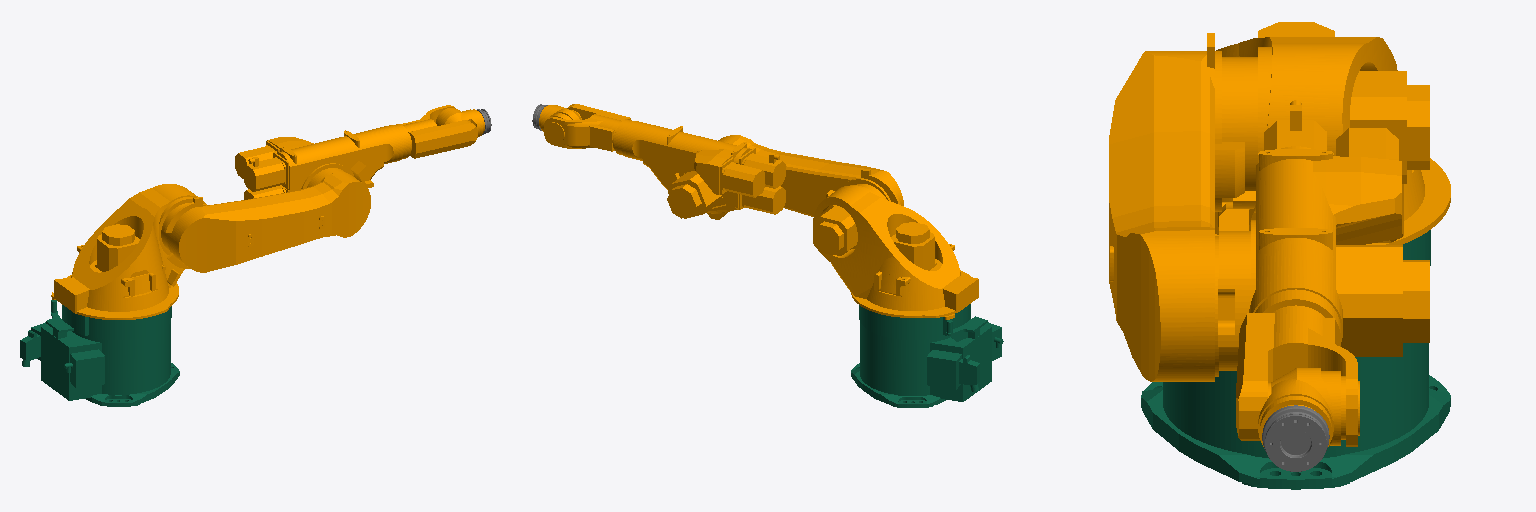
robot.urdf — kuka_kr60:
<?xml version="1.0" ?>
<!-- =================================================================================== -->
<!-- |    This document was autogenerated by xacro from kr500_3.xacro                  | -->
<!-- |    EDITING THIS FILE BY HAND IS NOT RECOMMENDED                                 | -->
<!-- =================================================================================== -->
<robot name="kuka_kr60">
  <!-- links: main serial chain -->
  <link name="base_link">
    <visual>
      <origin rpy="0 0 0" xyz="0 0 0"/>
      <geometry>
        <mesh filename="../meshes/kr60/visual/base_link.stl"/>
      </geometry>
      <material name="modern_green">
        <color rgba="0.109803921569 0.447058823529  0.341176470588   1"/>
      </material>
    </visual>
    <collision>
      <origin rpy="0 0 0" xyz="0 0 0"/>
      <geometry>
        <mesh filename="../meshes/kr60/collision/base_link.stl"/>
      </geometry>
    </collision>
  </link>
  <link name="link_1">
    <visual>
      <origin rpy="0 0 0" xyz="0 0 0"/>
      <geometry>
        <mesh filename="../meshes/kr60/visual/link_1.stl"/>
      </geometry>
      <material name="orange">
        <color rgba="1 0.64706 0 1"/>
      </material>
    </visual>
    <collision>
      <origin rpy="0 0 0" xyz="0 0 0"/>
      <geometry>
        <mesh filename="../meshes/kr60/collision/link_1.stl"/>
      </geometry>
    </collision>
  </link>
  <link name="link_2">
    <visual>
      <origin rpy="0 1.5707963267948966192 0" xyz="-0.815 0 0.35"/>
      <geometry>
        <mesh filename="../meshes/kr60/visual/link_2.stl"/>
      </geometry>
      <material name="orange">
        <color rgba="1 0.64706 0 1"/>
      </material>
    </visual>
    <collision>
      <origin rpy="0 1.5707963267948966192 0" xyz="-0.815 0 0.35"/>
      <geometry>
        <mesh filename="../meshes/kr60/collision/link_2.stl"/>
      </geometry>
    </collision>
  </link>
  <link name="link_3">
    <visual>
      <origin rpy="0 0 0" xyz="-0.35 0 -1.6565001"/>
      <geometry>
        <mesh filename="../meshes/kr60/visual/link_3.stl"/>
      </geometry>
      <material name="orange">
        <color rgba="1 0.64706 0 1"/>
      </material>
    </visual>
    <collision>
      <origin rpy="0 0 0" xyz="-0.35 0 -1.6565001"/>
      <geometry>
        <mesh filename="../meshes/kr60/collision/link_3.stl"/>
      </geometry>
    </collision>
  </link>
  <link name="link_4">
    <visual>
      <origin rpy="0 0 0" xyz="-0.35 0 -1.810"/>
      <geometry>
        <mesh filename="../meshes/kr60/visual/link_4.stl"/>
      </geometry>
      <material name="orange">
        <color rgba="1 0.64706 0 1"/>
      </material>
    </visual>
    <collision>
      <origin rpy="0 0 0" xyz="-0.35 0 -1.810"/>
      <geometry>
        <mesh filename="../meshes/kr60/collision/link_4.stl"/>
      </geometry>
    </collision>
  </link>
  <link name="link_5">
    <visual>
      <origin rpy="0 0 0" xyz="-1.170 0 -1.810"/>
      <geometry>
        <mesh filename="../meshes/kr60/visual/link_5.stl"/>
      </geometry>
      <material name="orange">
        <color rgba="1 0.64706 0 1"/>
      </material>
    </visual>
    <collision>
      <origin rpy="0 0 0" xyz="-1.170 0 -1.810"/>
      <geometry>
        <mesh filename="../meshes/kr60/collision/link_5.stl"/>
      </geometry>
    </collision>
  </link>
  <link name="link_6">
    <visual>
      <origin rpy="0 0 0" xyz="-1.340 0 -1.8100587"/>
      <geometry>
        <mesh filename="../meshes/kr60/visual/link_6.stl"/>
      </geometry>
      <material name="black">
        <color rgba="0.5 0.5 0.5 1"/>
      </material>
    </visual>
    <collision>
      <origin rpy="0 0 0" xyz="-1.340 0 -1.8100587"/>
      <geometry>
        <mesh filename="../meshes/kr60/collision/link_6.stl"/>
      </geometry>
    </collision>
  </link>
  <!-- joints: main serial chain -->
  <joint name="joint_a1" type="revolute">
    <origin rpy="0 0 0" xyz="0 0 0"/>
    <parent link="base_link"/>
    <child link="link_1"/>
    <axis xyz="0 0 -1"/>
    <limit effort="0" lower="-3.2288591161895095" upper="3.2288591161895095" velocity="2.44346095279206"/>
  </joint>
  <joint name="joint_a2" type="revolute">
    <origin rpy="0 0 0" xyz="0.35 0 0.815"/>
    <parent link="link_1"/>
    <child link="link_2"/>
    <axis xyz="0 1 0"/>
    <limit effort="0" lower="-2.3561944901923" upper="0.6108652381980153" velocity="2.199114857512855"/>
  </joint>
  <joint name="joint_a3" type="revolute">
    <origin rpy="0 0 0" xyz="0.8415001 0 0"/>
    <parent link="link_2"/>
    <child link="link_3"/>
    <axis xyz="0 1 0"/>
    <limit effort="0" lower="-2.094395102393" upper="2.757620218151" velocity="2.44346095279"/>
  </joint>
  <joint name="joint_a4" type="revolute">
    <origin rpy="0 0 0" xyz="0 0 0.1534999"/>
    <parent link="link_3"/>
    <child link="link_4"/>
    <axis xyz="-1 0 0"/>
    <limit effort="0" lower="-6.1086523819801535" upper="6.1086523819801535" velocity="4.5378560551852"/>
  </joint>
  <joint name="joint_a5" type="revolute">
    <origin rpy="0 0 0" xyz="0.820 0 0"/>
    <parent link="link_4"/>
    <child link="link_5"/>
    <axis xyz="0 1 0"/>
    <limit effort="0" lower="-2.07694180987325" upper="2.07694180987325" velocity="4.276056667386"/>
  </joint>
  <joint name="joint_a6" type="revolute">
    <origin rpy="0 0 0" xyz="0.170 0 0"/>
    <parent link="link_5"/>
    <child link="link_6"/>
    <axis xyz="-1 0 0"/>
    <limit effort="0" lower="-6.1086523819801535" upper="6.1086523819801535" velocity="5.61996019142"/>
  </joint>
  <!-- ROS base_link to KUKA $ROBROOT coordinate system transform -->
  <link name="base"/>
  <joint name="base_link-base" type="fixed">
    <origin rpy="0 0 0" xyz="0 0 0"/>
    <parent link="base_link"/>
    <child link="base"/>
  </joint>
  <!-- ROS-Industrial 'flange' frame: attachment point for EEF models -->
  <link name="flange"/>
  <joint name="link_6-flange" type="fixed">
    <origin rpy="0 0 0" xyz="0 0 0"/>
    <parent link="link_6"/>
    <child link="flange"/>
  </joint>
  <!-- ROS-Industrial 'tool0' frame: all-zeros tool frame -->
  <!-- KUKA $FLANGE (or $TOOL=NULLFRAME) -->
  <link name="tool0"/>
  <joint name="flange-tool0" type="fixed">
    <origin rpy="0 1.5707963267948966 0" xyz="0 0 0"/>
    <parent link="flange"/>
    <child link="tool0"/>
  </joint>
</robot>

--- What the picture shows (computed from the rendered views, not written in the file) ---
The picture shows the robot from 3 angles, left to right: view 1: azimuth 30°, elevation 25°; view 2: azimuth 150°, elevation 25°; view 3: azimuth 270°, elevation 25°; orthographic projection.
Model kuka_kr60 with 10 links and 9 joints (6 revolute, 3 fixed), rooted at base_link, posed every joint at zero.
Visible links, largest first — view 1: link_2, link_1, base_link, link_3, link_4, link_5; view 2: link_1, base_link, link_3, link_2, link_4; view 3: link_2, link_3, link_1, base_link, link_4, link_6, link_5.
Boxes of the visible links, left/top/right/bottom form: link_2: left=164, top=172, right=370, bottom=272; link_1: left=51, top=184, right=205, bottom=319; base_link: left=20, top=300, right=179, bottom=406; link_3: left=235, top=127, right=396, bottom=199; link_4: left=384, top=105, right=477, bottom=161; link_5: left=436, top=108, right=484, bottom=137; link_1: left=813, top=184, right=978, bottom=319; base_link: left=851, top=304, right=1003, bottom=407; link_3: left=629, top=122, right=785, bottom=219; link_2: left=718, top=135, right=903, bottom=216; link_4: left=544, top=104, right=639, bottom=158; link_2: left=1109, top=33, right=1244, bottom=381; link_3: left=1218, top=100, right=1429, bottom=370; link_1: left=1215, top=22, right=1450, bottom=244; base_link: left=1141, top=230, right=1450, bottom=489; link_4: left=1236, top=279, right=1359, bottom=446; link_6: left=1262, top=405, right=1329, bottom=471; link_5: left=1258, top=368, right=1340, bottom=446.
Size in the robot's own frame: 2.66 by 0.688 by 1.08 metres.
Meshes: 7 distinct files referenced, 7 mesh visuals loaded (7 binary STL).
